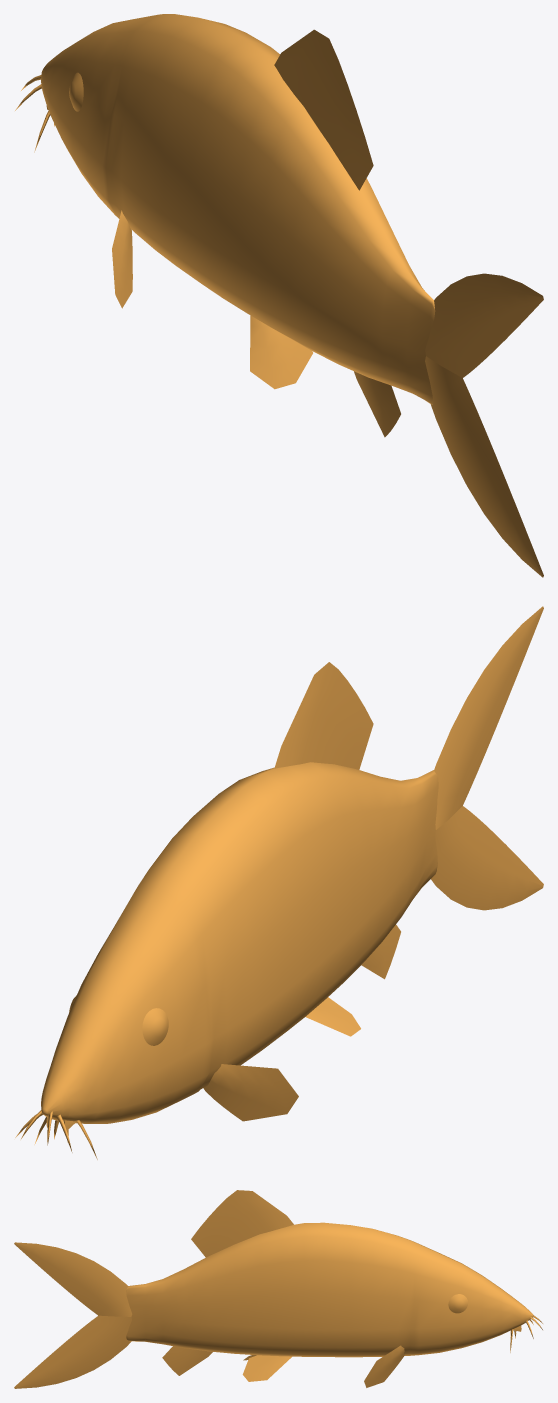
File: clown_loach_game.glb
3 renders of one model, top to bottom at view 1: azimuth 30°, elevation 25°; view 2: azimuth 150°, elevation 25°; view 3: azimuth 270°, elevation 25°, orthographic. The views are drawn at different scales.
Visible parts, largest first — view 1: clown_loach_game; view 2: clown_loach_game; view 3: clown_loach_game.
Part boxes in pixels (left/top/right/bottom): clown_loach_game: left=15, top=14, right=543, bottom=577; clown_loach_game: left=15, top=606, right=543, bottom=1159; clown_loach_game: left=14, top=1190, right=542, bottom=1388.
Size of the model in its own units: 0.0423 by 0.0841 by 0.2032.
